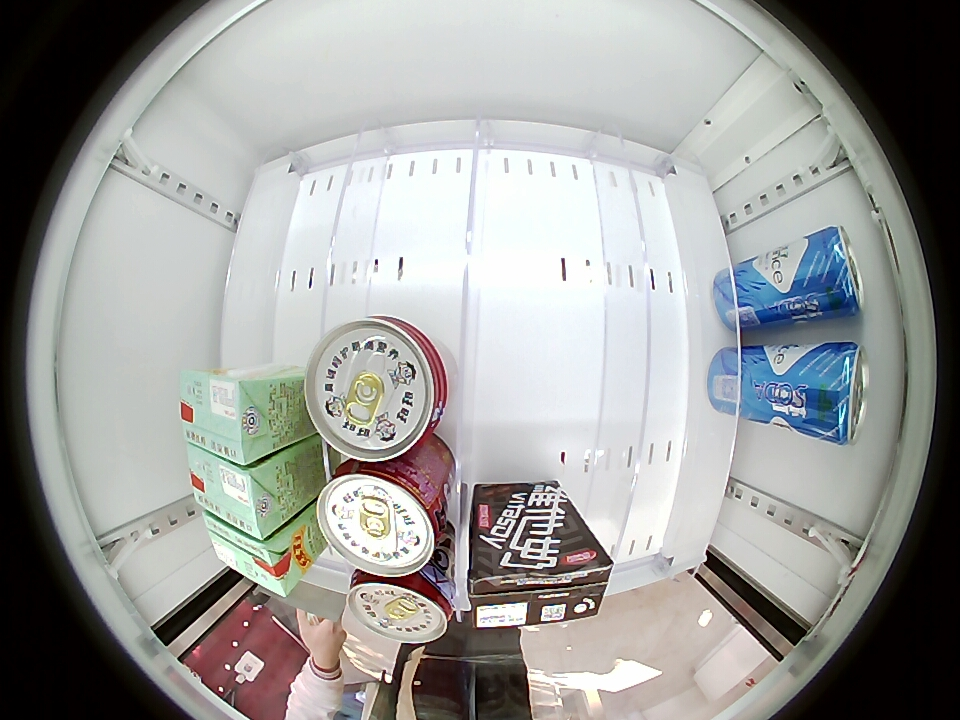qingdaowangzi-2: (803, 342, 869, 444), (797, 225, 864, 316)
wanglaoji: (179, 368, 277, 467), (186, 446, 286, 542), (204, 514, 304, 598)
wangzainiunai: (304, 315, 451, 463), (317, 455, 448, 577), (344, 564, 455, 641)
weitanai2: (470, 529, 613, 629)
